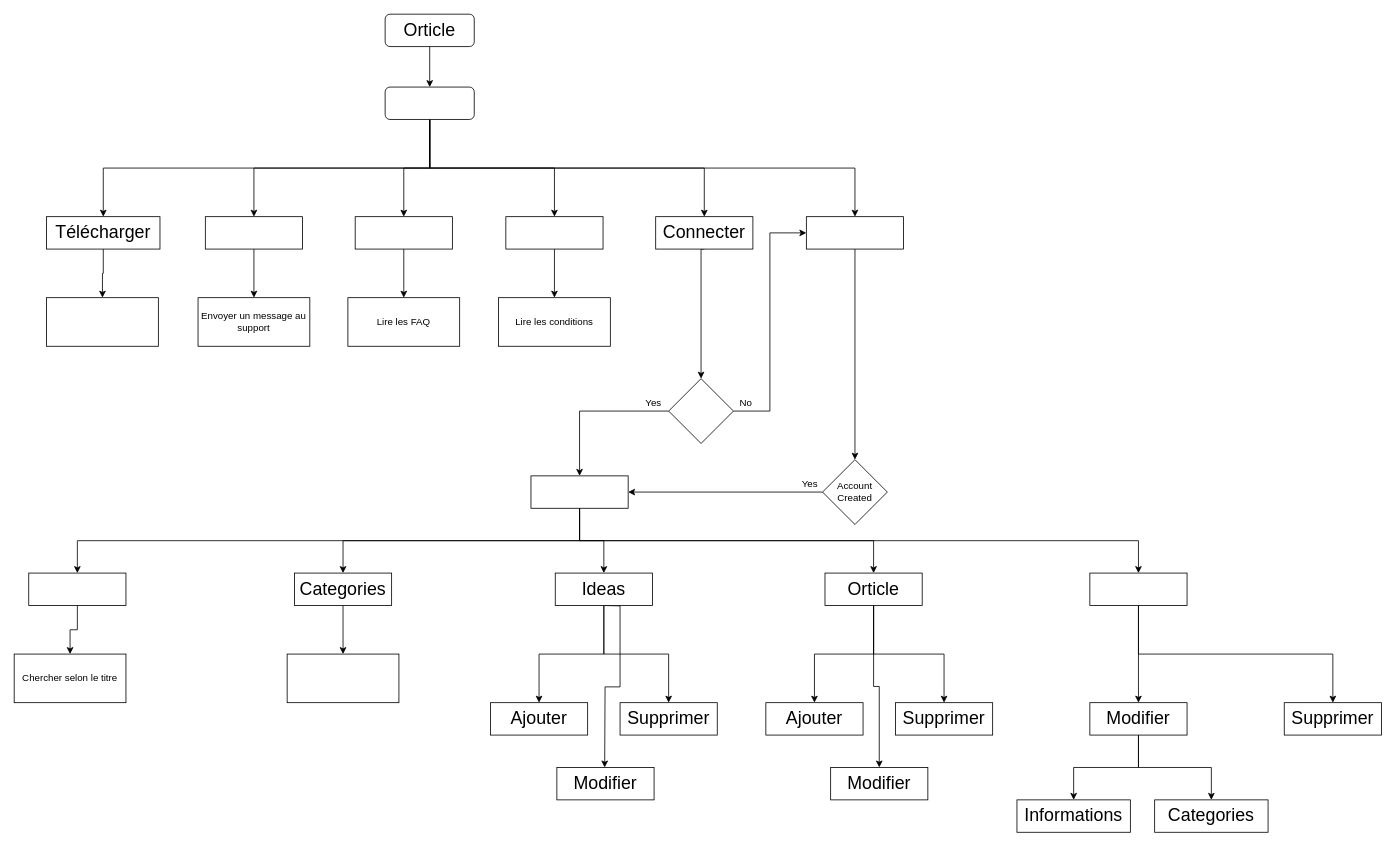
The diagram is 1396 pixels wide and 846 high, and some of its shapes have lost their labels. The shapes that lost their labels are listed below. From the top down, each one's box as (x1, y1, x2, y2) in pixels, then its label:
(384, 86, 474, 119): Accueil
(205, 216, 303, 249): Support
(354, 216, 452, 249): FAQ
(505, 216, 603, 249): Conditions
(806, 216, 904, 249): S'inscrire
(46, 297, 158, 346): Télécharger l'application Orticle
(668, 378, 733, 443): Account
(530, 475, 628, 508): Explorer
(28, 572, 126, 605): Chercher
(1089, 572, 1187, 605): Compte
(286, 653, 399, 703): Explorer des idées selon des categories
